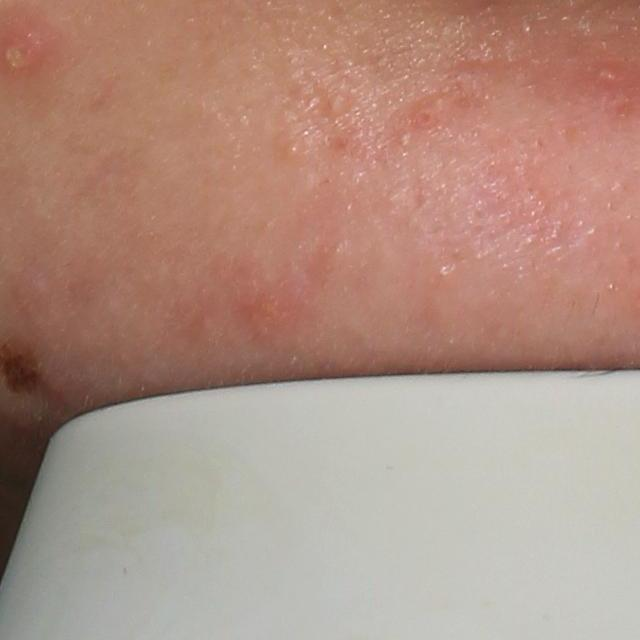comedo: (282, 139, 304, 162), (326, 91, 343, 114), (400, 131, 411, 148)
pustule: (594, 61, 626, 92)
